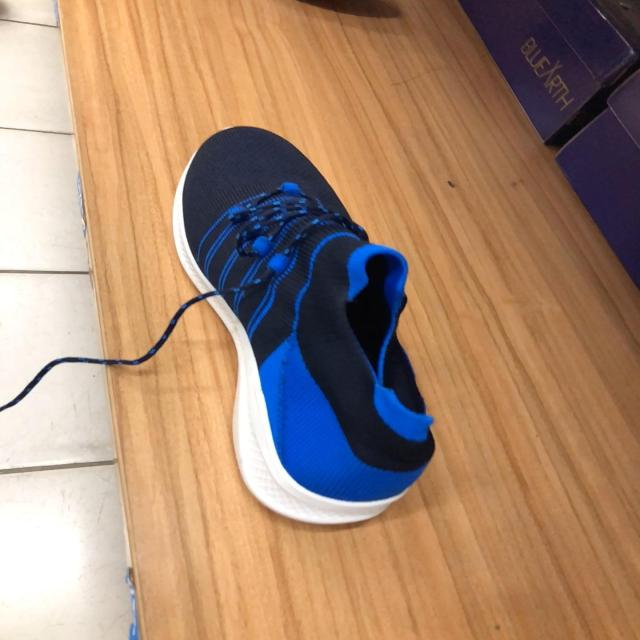shoe: (172, 126, 436, 511)
